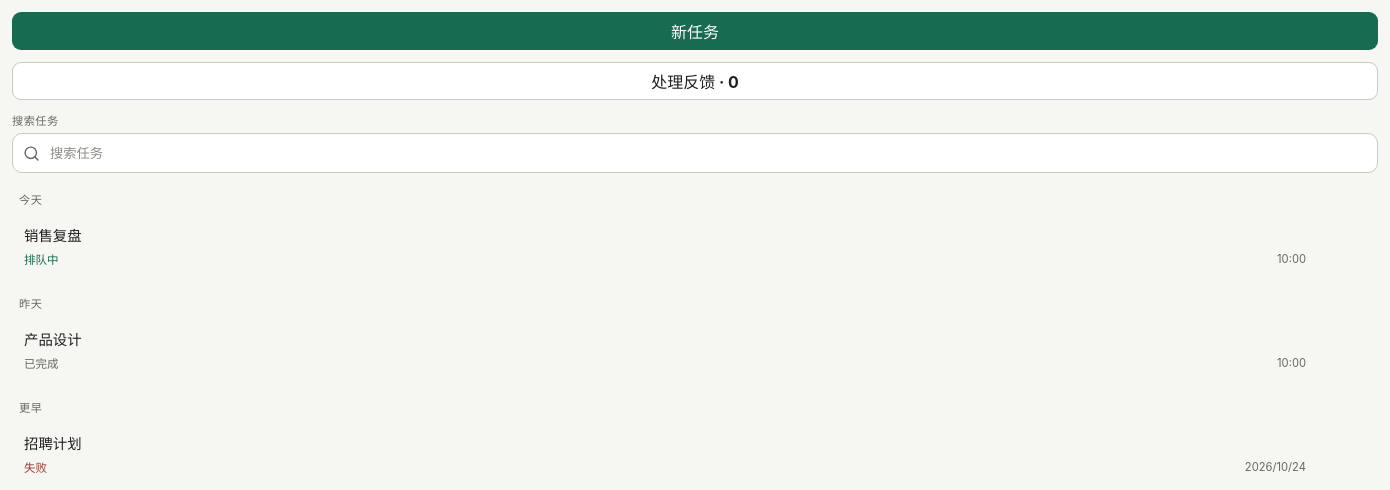
Test: TaskList › groups parsed local dates and filters tasks by title
Expected: the heading "今天" is shown, [19, 193, 43, 207]
Expected: the heading "昨天" is shown, [19, 297, 43, 311]
Type "产品" into the search field labelled "搜索任务".
click(708, 153); type("产品")  # box [48, 134, 1367, 172]
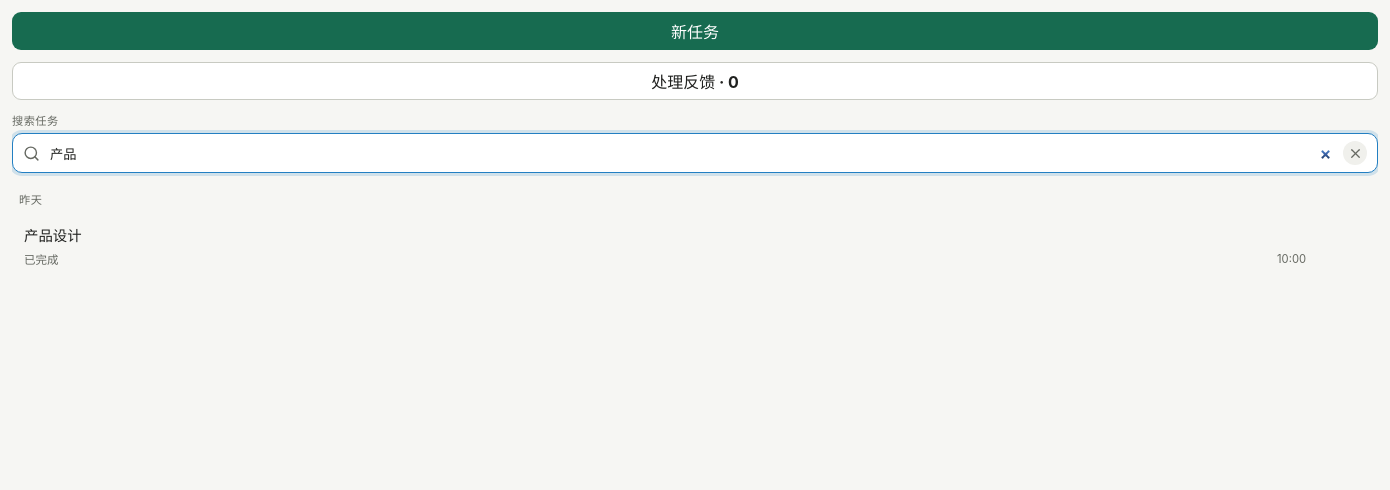
Expected: the text "产品设计" is shown, [24, 227, 82, 244]
Expected: the button "销售复盘" is gone
